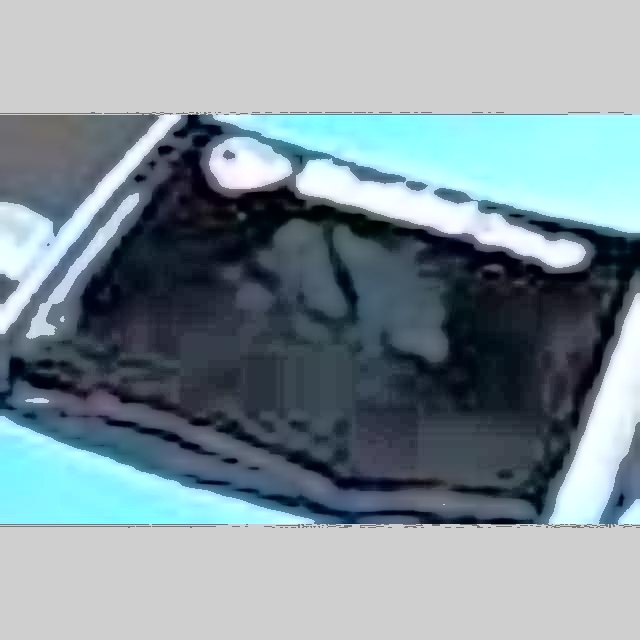pakai: (223, 204, 454, 361)
